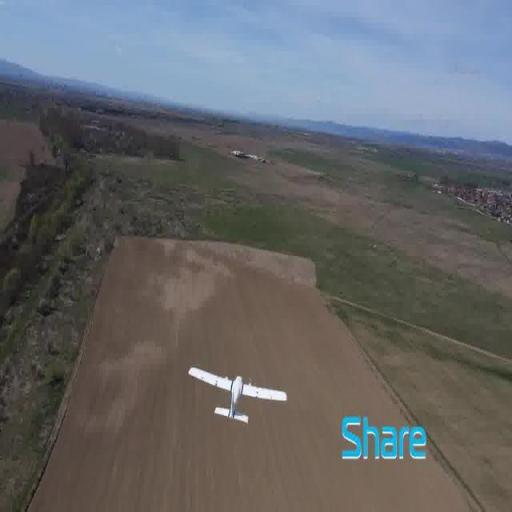uav: (186, 359, 292, 437)
